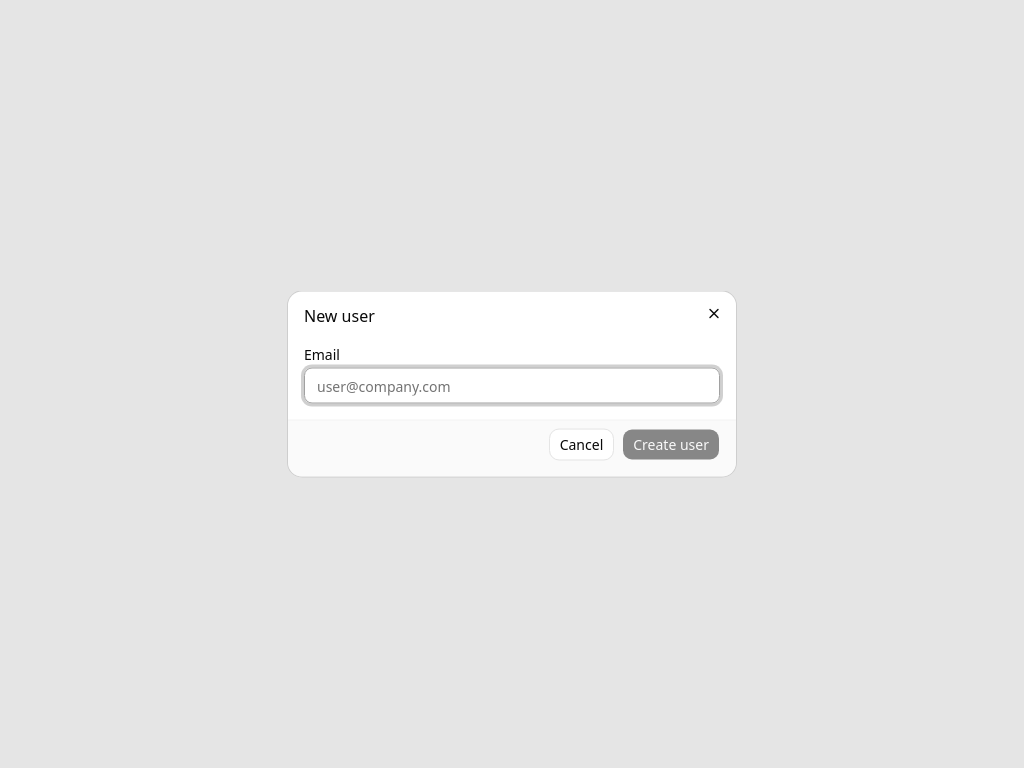
Scenario: CreateUserDialog — submit › shows the error on the email field instead of failing silently when creation fails for a reason that cannot be auto-resolved
expect the heading "New user" is shown: met, box [304,304,375,326]
In the field with placeholder "user@company.com": (512, 386) [304,368,720,404], type "existing@company.com"
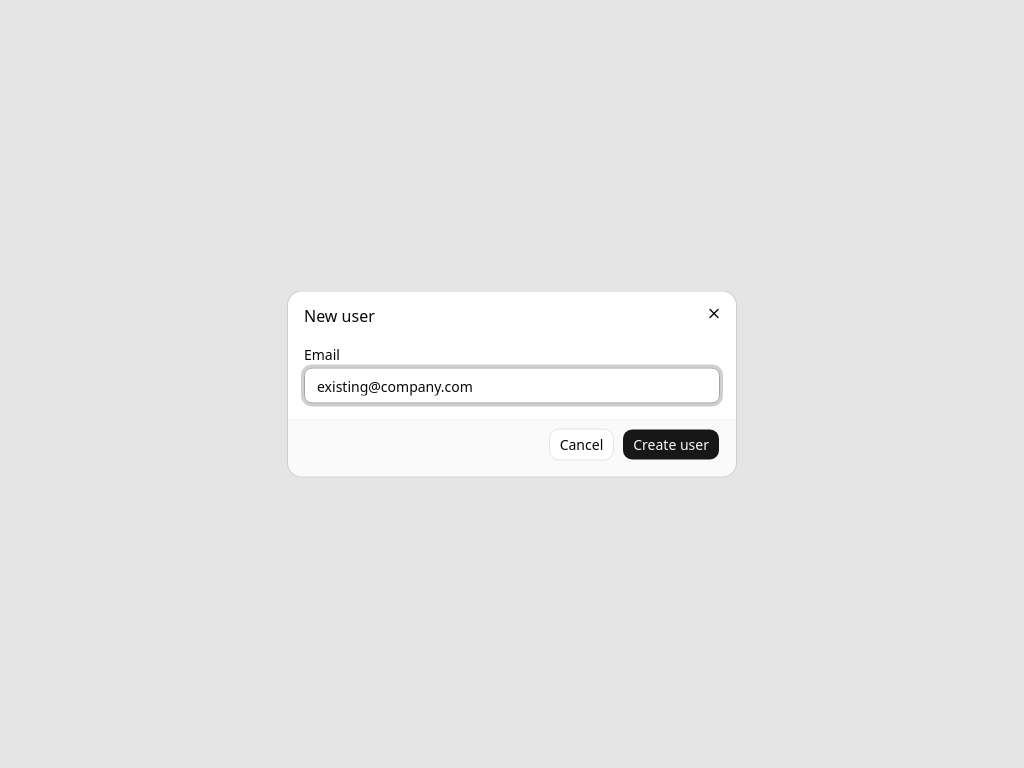
Click the button "Create user": (671, 444) [622,428,720,460]
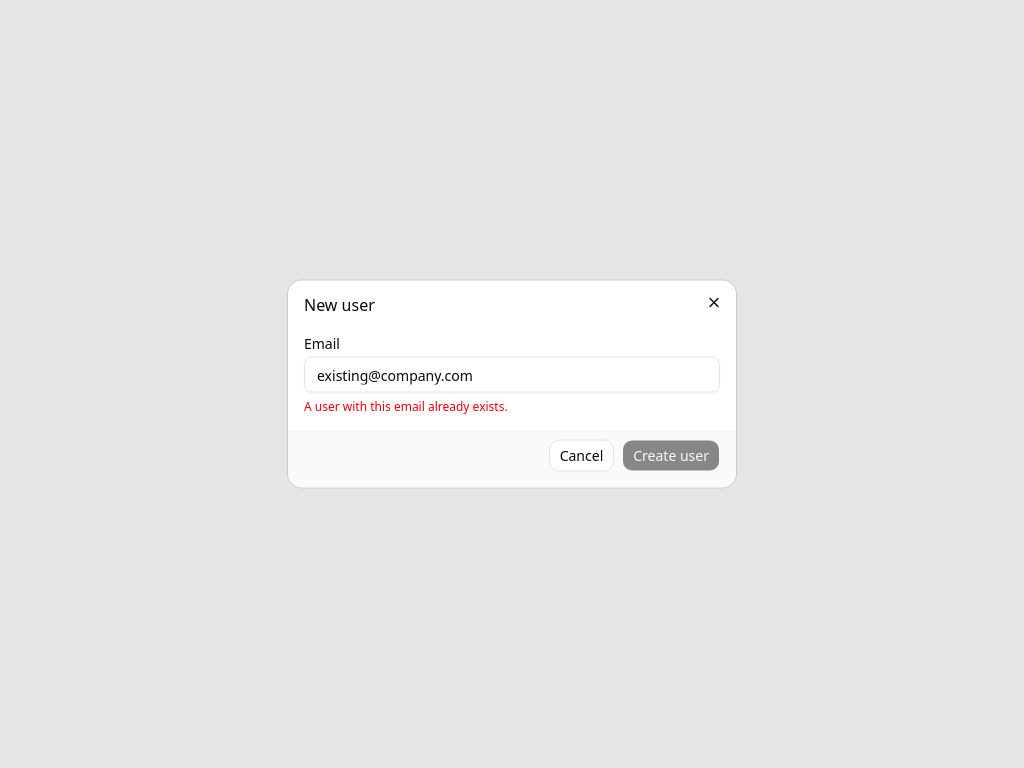
expect the text "A user with this email already exists." is shown: met, box [304,398,508,414]
